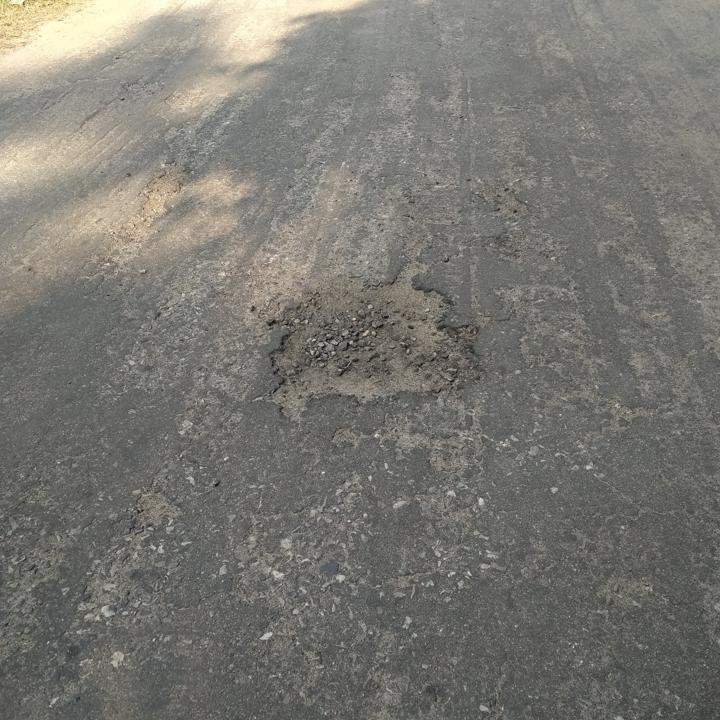pothole: (255, 261, 493, 420), (130, 486, 190, 534)
